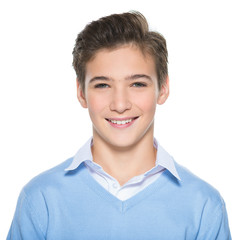teen: (63, 16, 177, 145)
